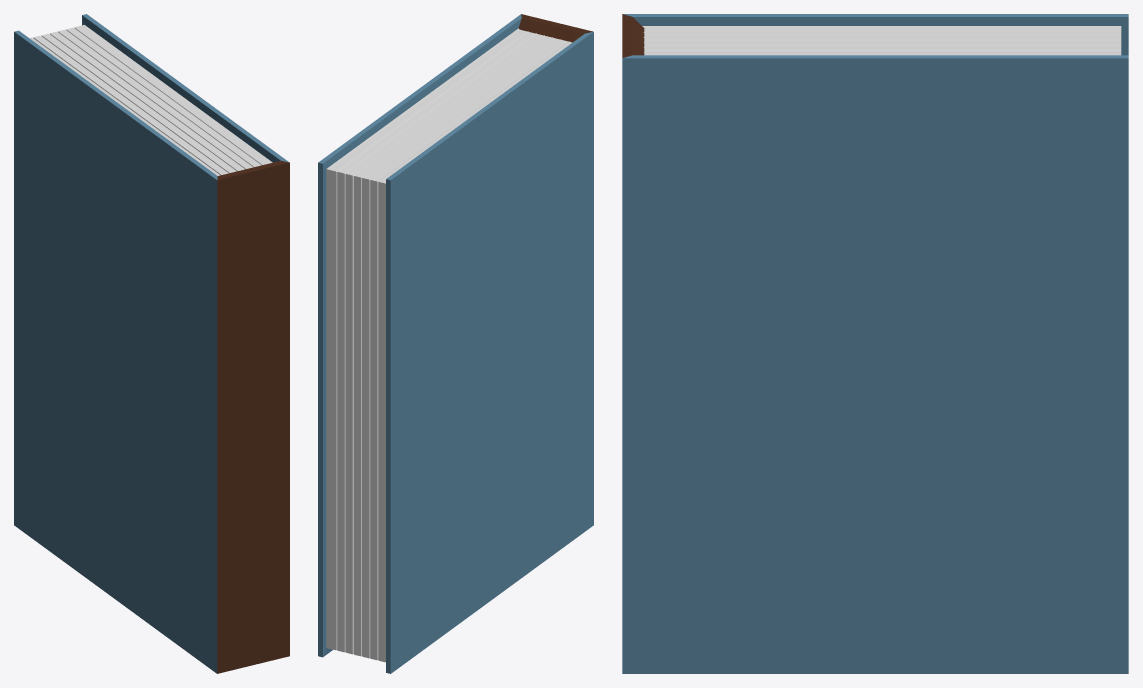
Rendered from book1.fbx.
3 renders of one model, left to right at view 1: azimuth 30°, elevation 25°; view 2: azimuth 150°, elevation 25°; view 3: azimuth 270°, elevation 25°, orthographic. The views are drawn at different scales.
Visible parts, largest first — view 1: Cube; view 2: Cube; view 3: Cube.
Boxes of the visible parts, box(x1,y1,x2,y2) form: Cube: box(14, 14, 289, 673); Cube: box(318, 14, 593, 673); Cube: box(622, 14, 1128, 673).
Size of the model in its own units: 12.22 by 79.32 by 59.13.
